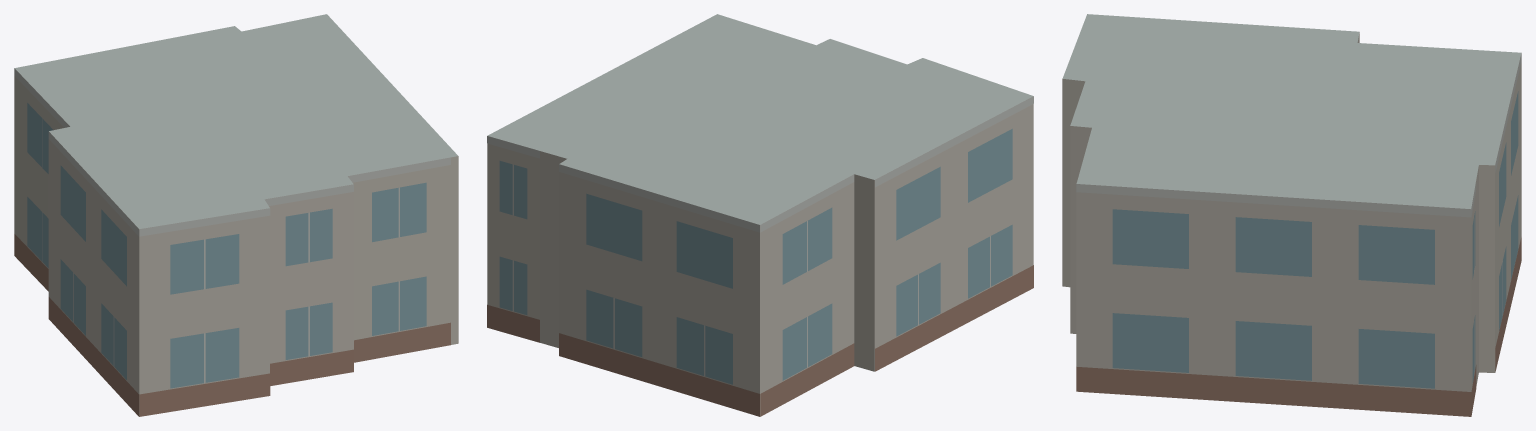
The model's file is survey-upis-32869535.glb.
The picture shows the model from 3 angles, left to right: view 1: azimuth 30°, elevation 25°; view 2: azimuth 150°, elevation 25°; view 3: azimuth 270°, elevation 25°; orthographic projection. The views are drawn at different scales.
Parts seen in each view (by area): view 1: survey-upis-32869535.tmp; view 2: survey-upis-32869535.tmp; view 3: survey-upis-32869535.tmp.
Part boxes in pixels (x1,y1,x2,y2): survey-upis-32869535.tmp: (14,14,458,416); survey-upis-32869535.tmp: (487,14,1033,416); survey-upis-32869535.tmp: (1062,14,1521,416).
Size of the model in its own units: 12.3 by 6.1 by 12.23.
